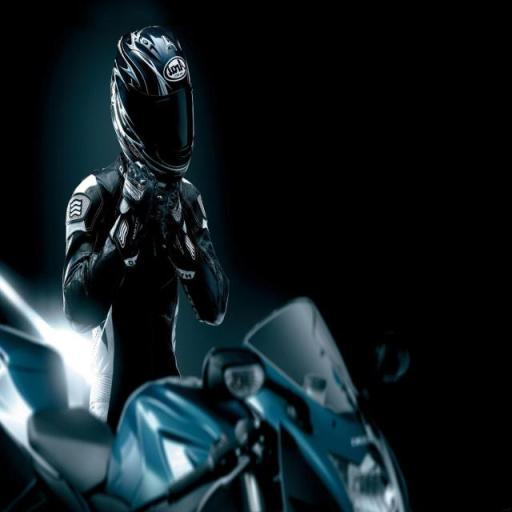Helmet: (112, 27, 193, 179)
Motor: (0, 299, 408, 511)
